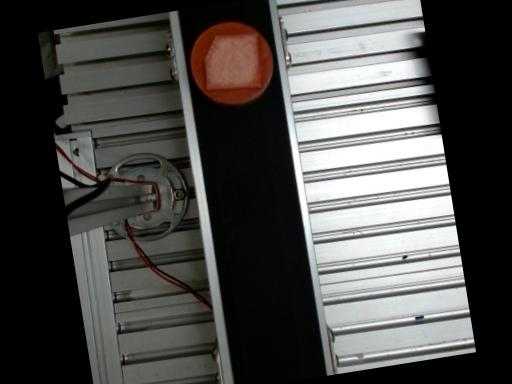Brown_Waper: (188, 21, 272, 106)
Not_Square: (201, 32, 261, 90)
